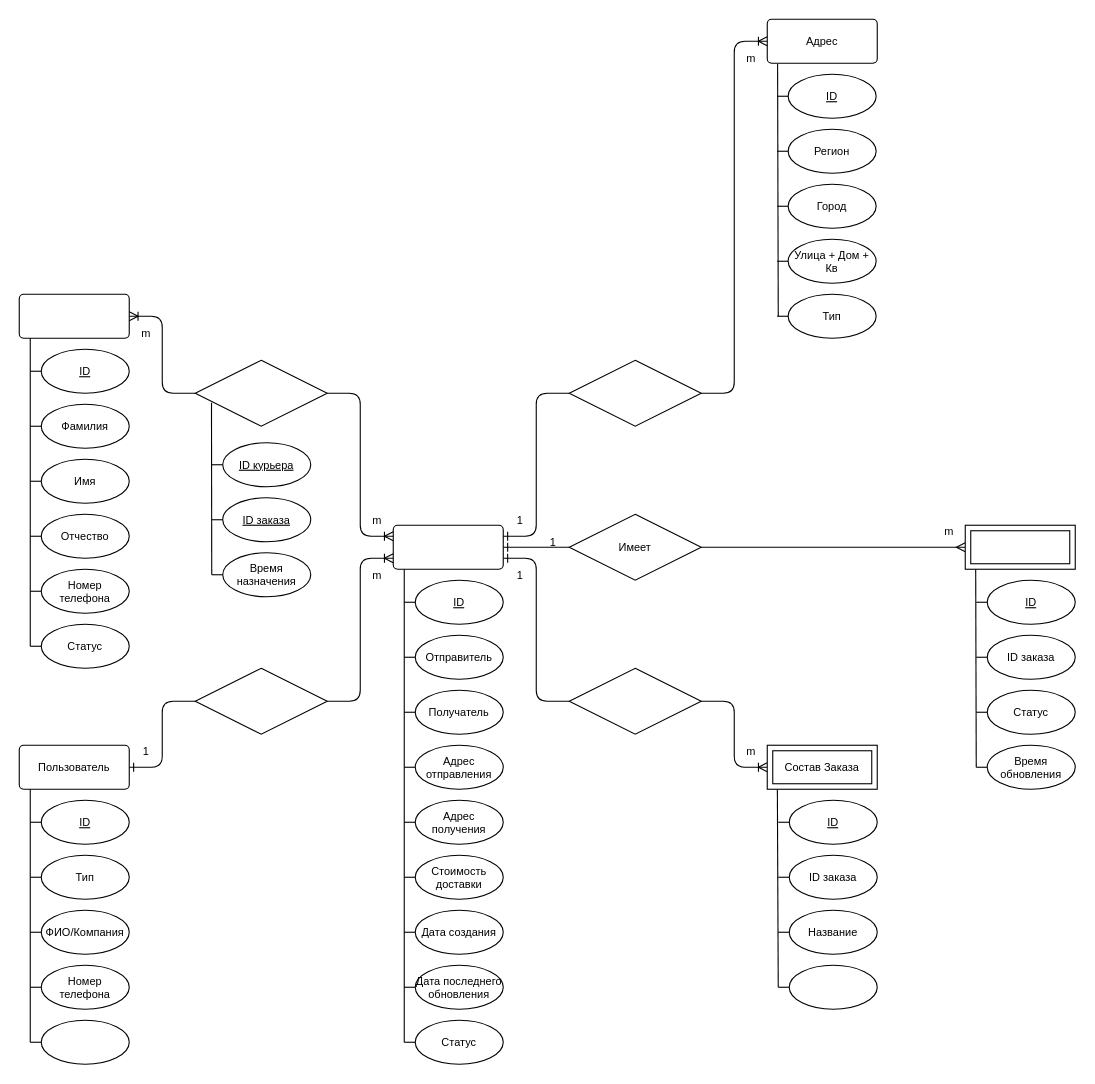
Some shapes in this 1095 by 1084 pixel diagram are drawn without their labels. The centre of each missing label's shape, as x and y in pixels:
"Email" goes at (84,1041).
"Доставляет" goes at (260,392).
"Заказ" goes at (447,546).
"Количество" goes at (832,986).
"Курьер" goes at (73,315).
"Отправляет Получает" goes at (260,700).
"Отправляется из Доставляется на" goes at (634,392).
"Содержит" goes at (634,700).
"Статус заказа" goes at (1019,546).
